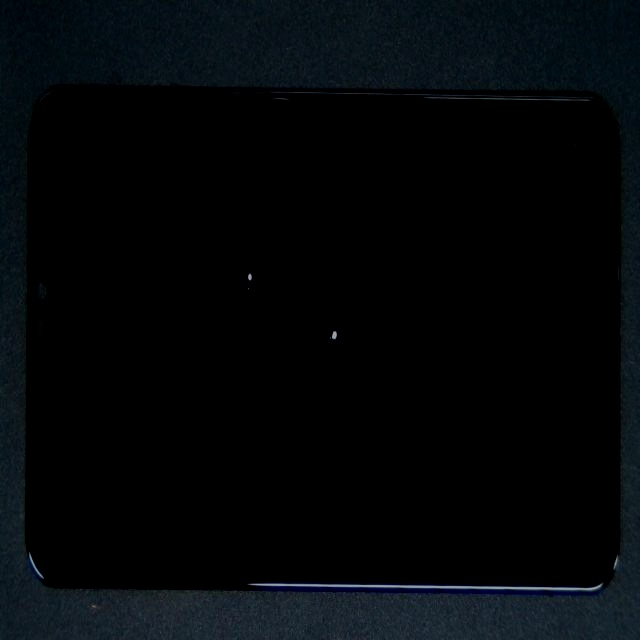stain: (181, 200, 512, 487), (137, 118, 363, 388)
